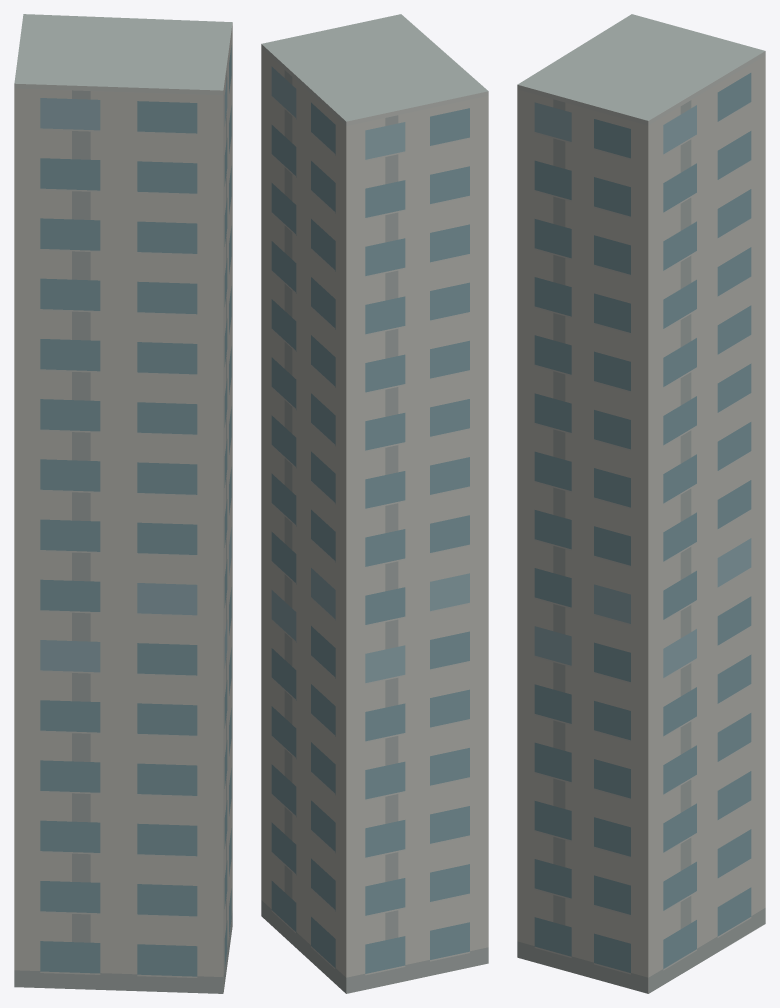
The model's file is survey-upis-32701189.glb.
3 views of the same model, side by side, from view 1: azimuth 30°, elevation 25°; view 2: azimuth 150°, elevation 25°; view 3: azimuth 270°, elevation 25° (orthographic). The views are drawn at different scales.
Visible parts, largest first — view 1: survey-upis-32701189.tmp; view 2: survey-upis-32701189.tmp; view 3: survey-upis-32701189.tmp.
Boxes of the visible parts, x1=… form: survey-upis-32701189.tmp: x1=14, y1=14, x2=232, y2=993; survey-upis-32701189.tmp: x1=261, y1=14, x2=488, y2=993; survey-upis-32701189.tmp: x1=517, y1=14, x2=765, y2=993.
Size of the model in its own units: 12.03 by 45.75 by 11.8.
